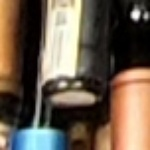bottle: (20, 36, 121, 130)
